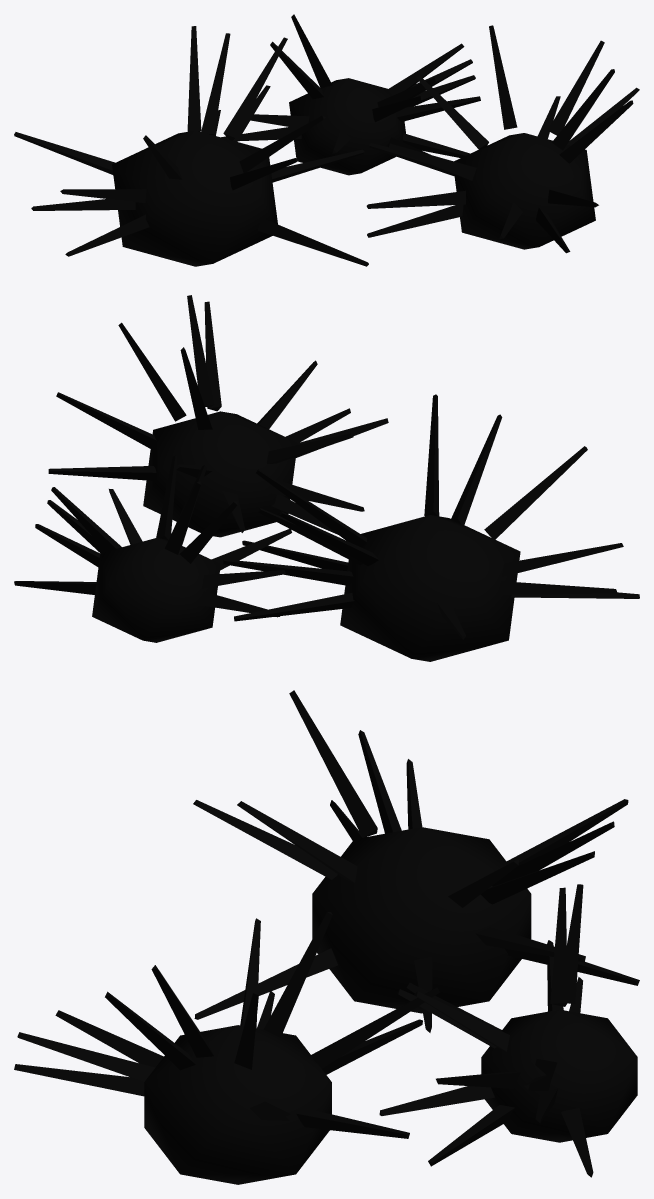
Rendered from SeaUrchins.fbx.
3 views of the same model, one above another, from view 1: azimuth 30°, elevation 25°; view 2: azimuth 150°, elevation 25°; view 3: azimuth 270°, elevation 25° (orthographic). The views are drawn at different scales.
Visible parts, largest first — view 1: SeaUrchins; view 2: SeaUrchins; view 3: SeaUrchins.
Boxes of the visible parts, box(x1,y1,x2,y2) form: SeaUrchins: box(14, 14, 639, 266); SeaUrchins: box(14, 295, 639, 661); SeaUrchins: box(14, 690, 639, 1184).
Size of the model in its own units: 0.9679 by 0.3327 by 0.6815.
Materials: 1 (1 with a texture image).
